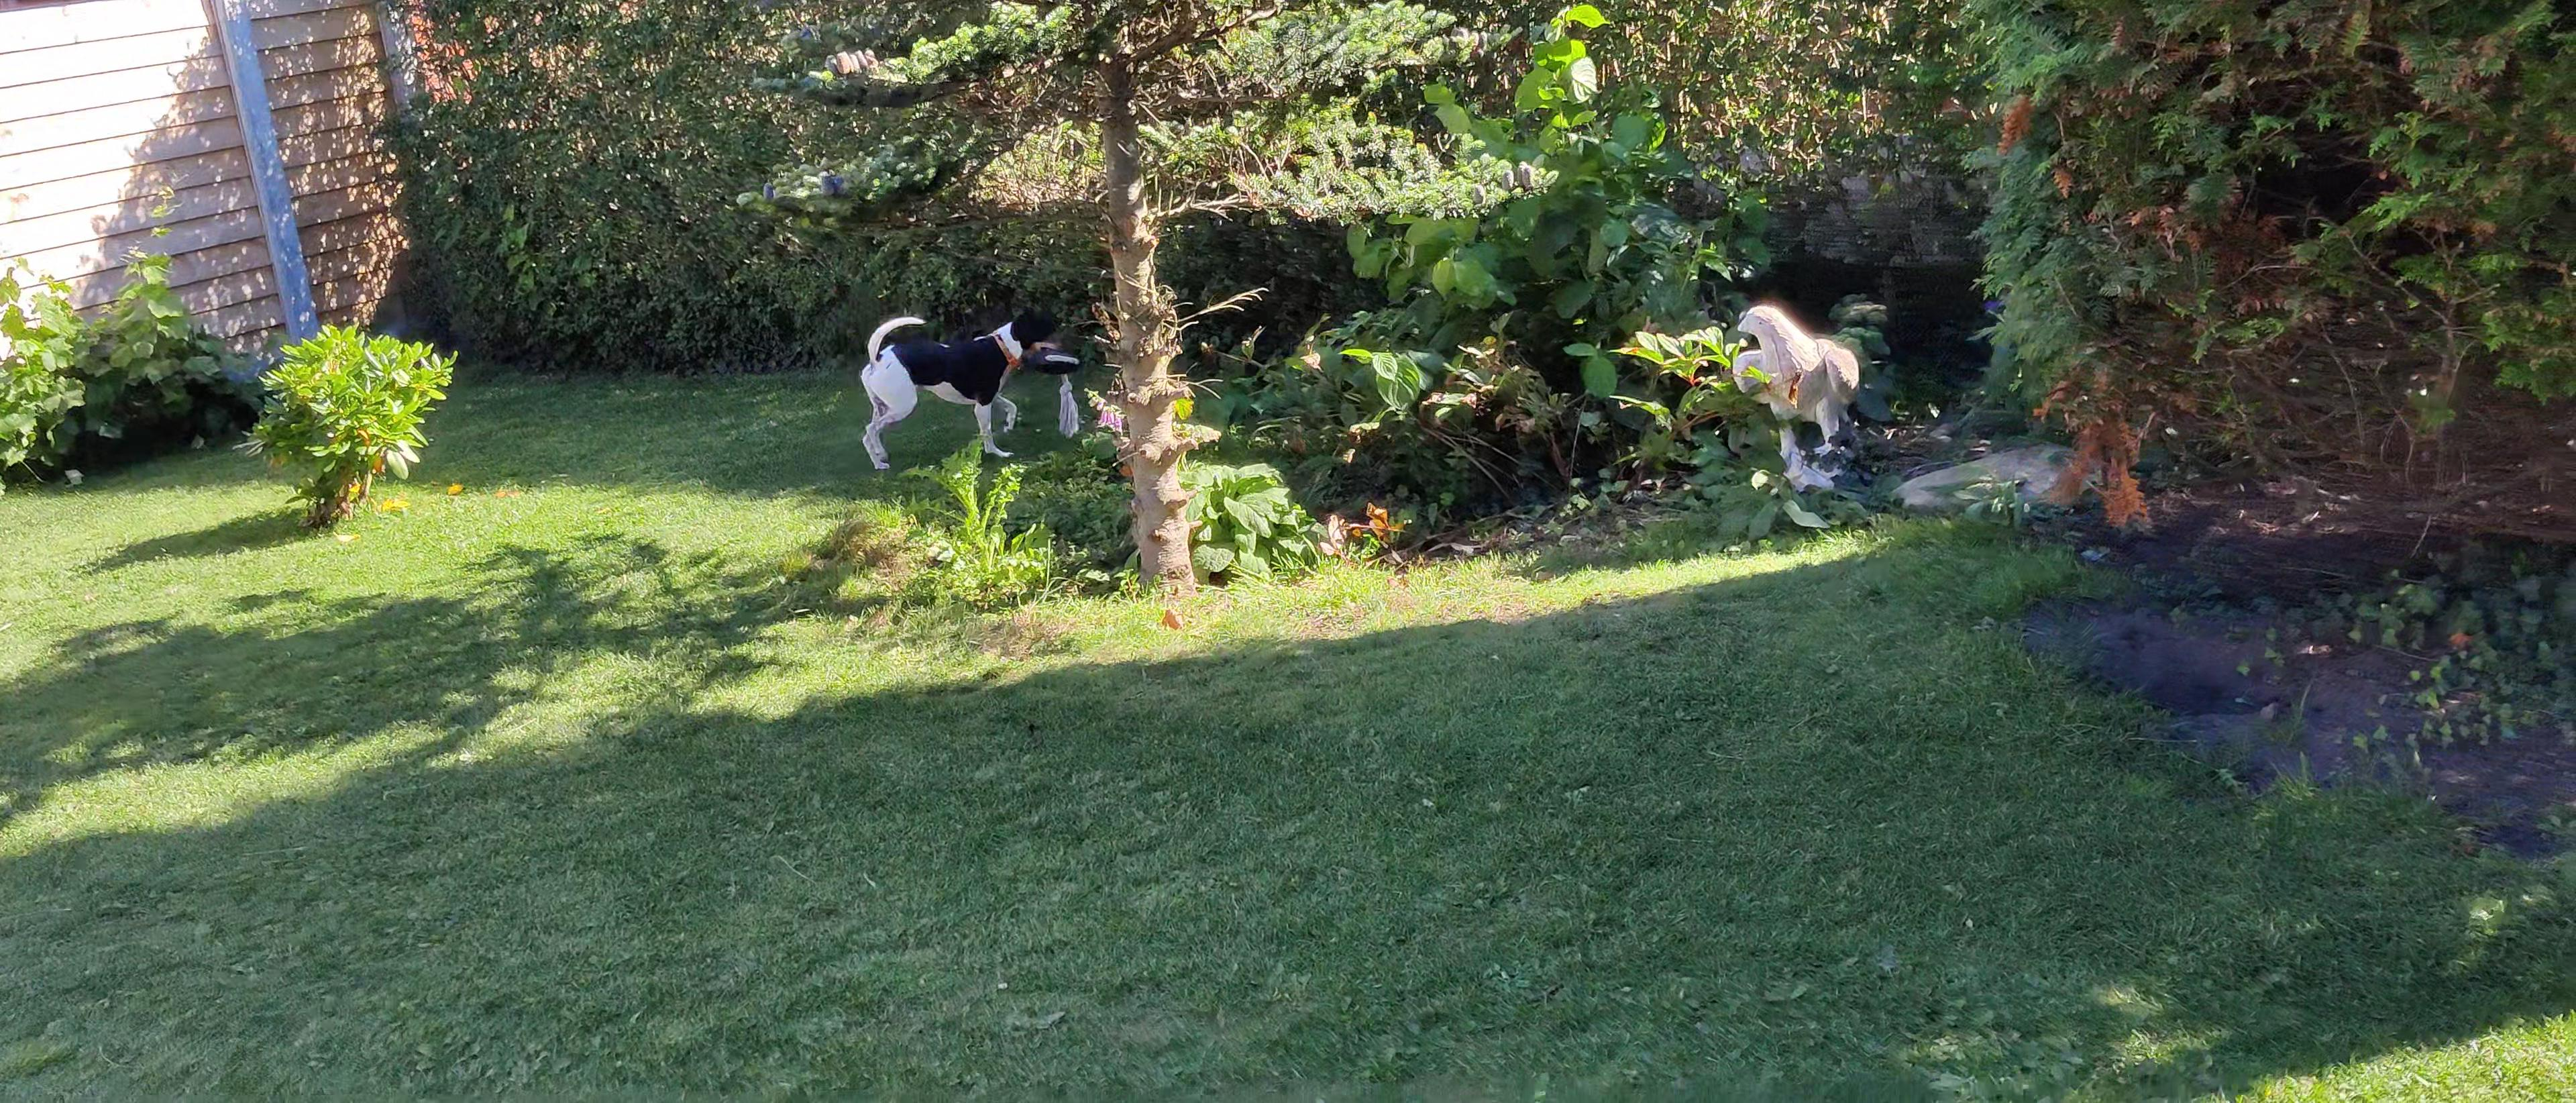Dog: (854, 302, 1069, 472)
